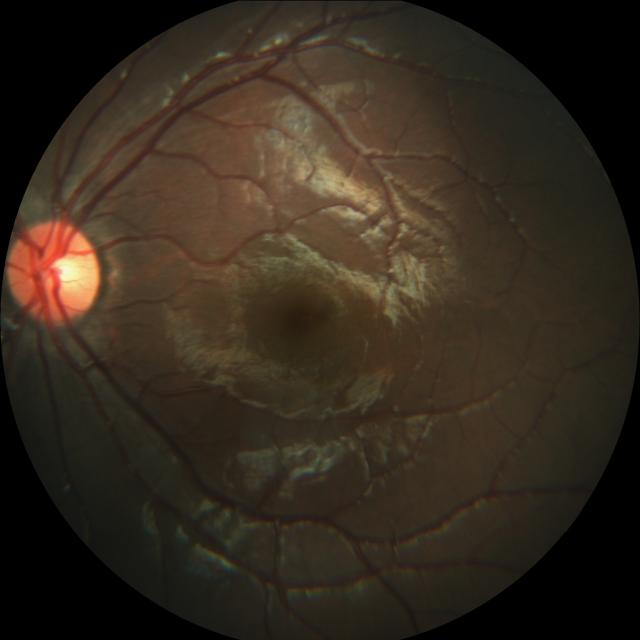OC: (40, 252, 82, 292)
OD: (6, 219, 99, 322)
